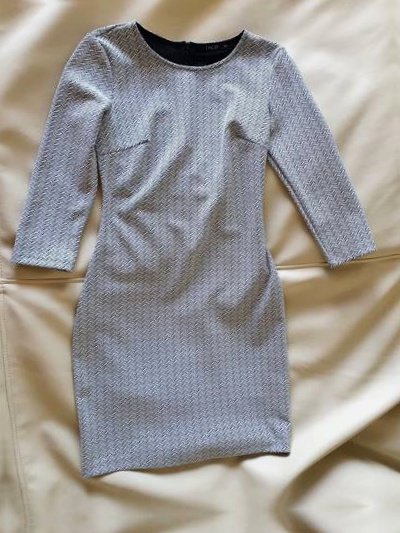Dress: (4, 4, 400, 480)
